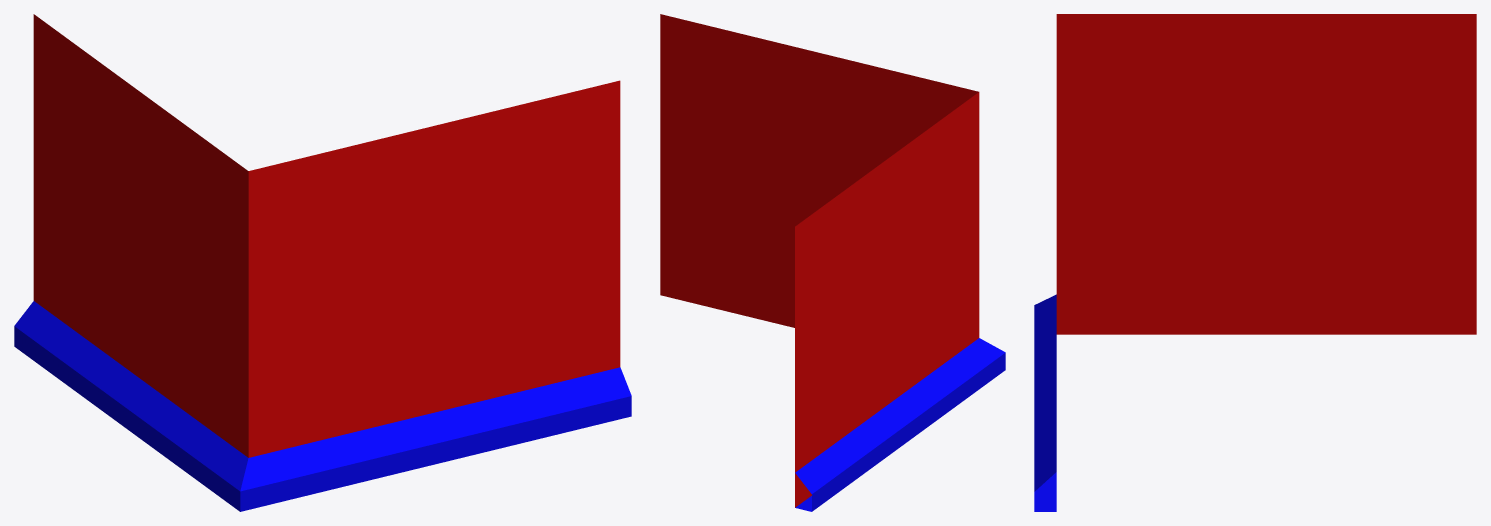
The picture shows the model from 3 angles, left to right: view 1: azimuth 30°, elevation 25°; view 2: azimuth 150°, elevation 25°; view 3: azimuth 270°, elevation 25°; orthographic projection. The views are drawn at different scales.
Visible parts, largest first — view 1: None_G_G_A_E_G_G_E_E_None; view 2: None_G_G_A_E_G_G_E_E_None; view 3: None_G_G_A_E_G_G_E_E_None.
Boxes of the visible parts, x1,y1,x2,y2 form: None_G_G_A_E_G_G_E_E_None: (14,14,631,511); None_G_G_A_E_G_G_E_E_None: (660,14,1005,511); None_G_G_A_E_G_G_E_E_None: (1034,14,1476,511).
Bounding box in the file's own units: 62.5 × 50 × 62.5.
